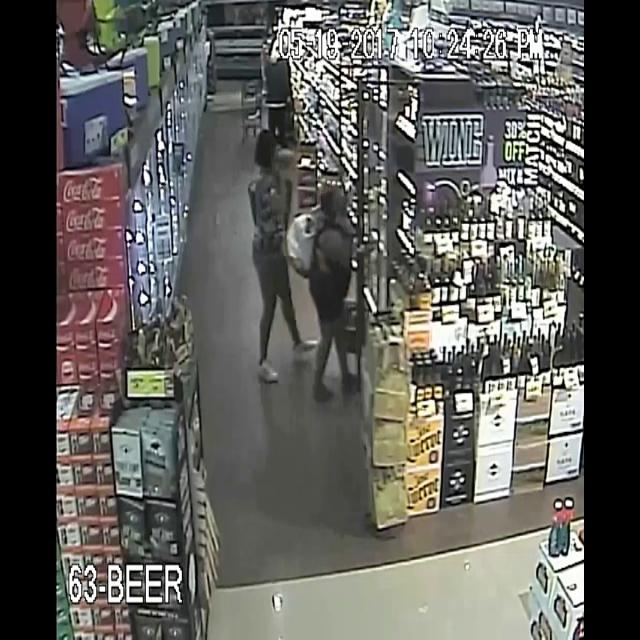normal: (292, 171, 394, 409), (247, 142, 296, 382), (257, 38, 301, 132)
